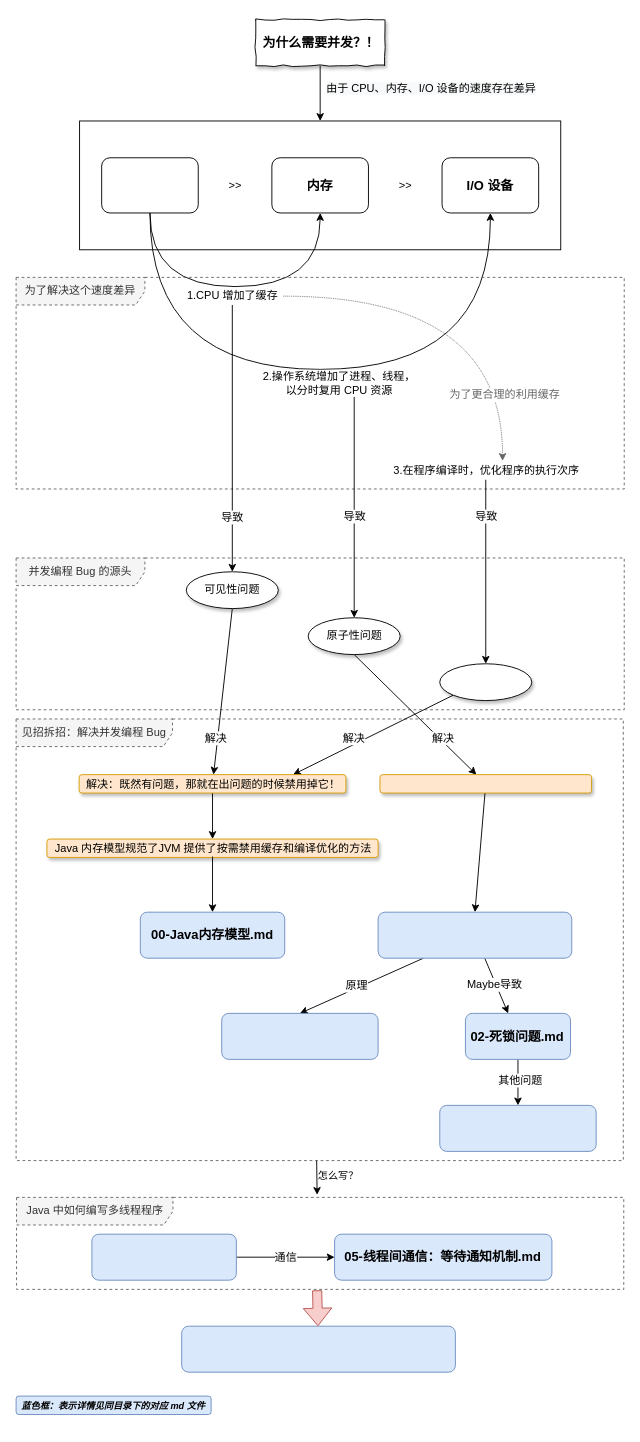
Image size: 640x1442. Some labels were removed from this diagram. The centre of each missing label's shape, as x and y in pixels:
01-互斥锁：synchronized.md: the point at 474,934
03-安全性、活跃性、性能问题.md: the point at 517,1127
04-Java线程.md: the point at 163,1256
06-管程（Monitor）.md: the point at 299,1035
07-写好并发程序的宏观原则.md: the point at 318,1348
CPU: the point at 149,185
有序性问题: the point at 486,683
解决：在出问题的地方串行，不并发了！: the point at 486,784
